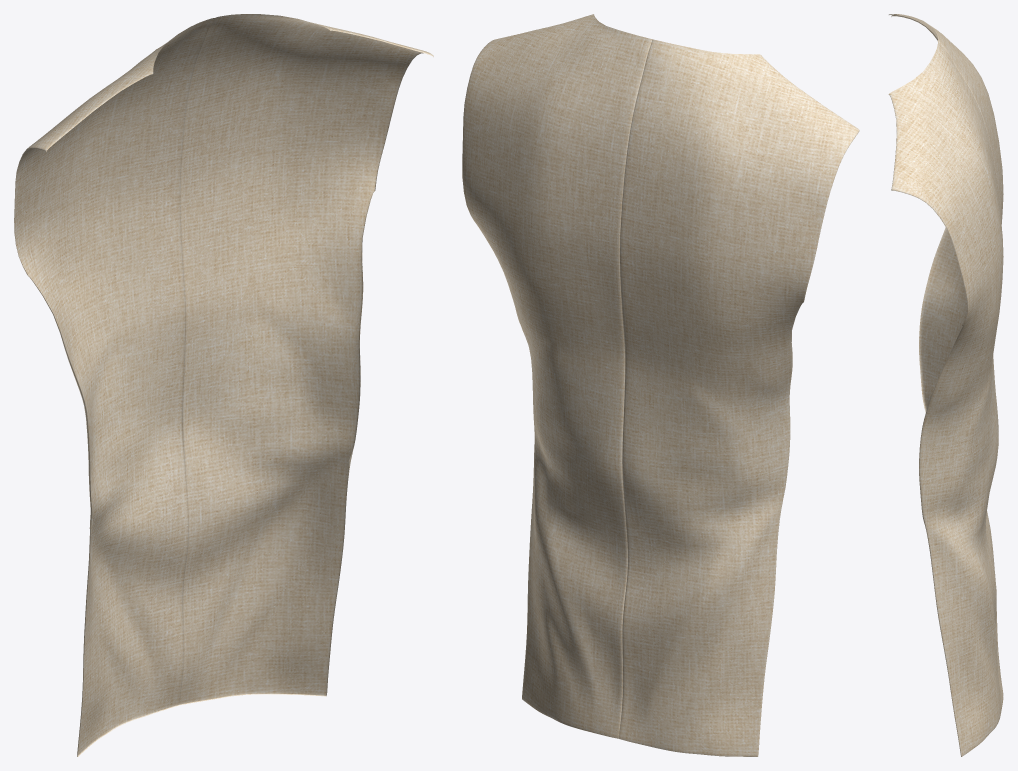
File: Double_vent.glb
3 views of the same model, side by side, from view 1: azimuth 30°, elevation 25°; view 2: azimuth 150°, elevation 25°; view 3: azimuth 270°, elevation 25° (orthographic). The views are drawn at different scales.
Visible parts, largest first — view 1: Double_vent; view 2: Double_vent; view 3: Double_vent.
Boxes of the visible parts, x1,y1,x2,y2 form: Double_vent: (14,14,433,756); Double_vent: (462,14,859,756); Double_vent: (888,14,1003,756).
Size of the model in its own units: 0.0591 by 0.1036 by 0.0163.
1 material, 1 textured.
